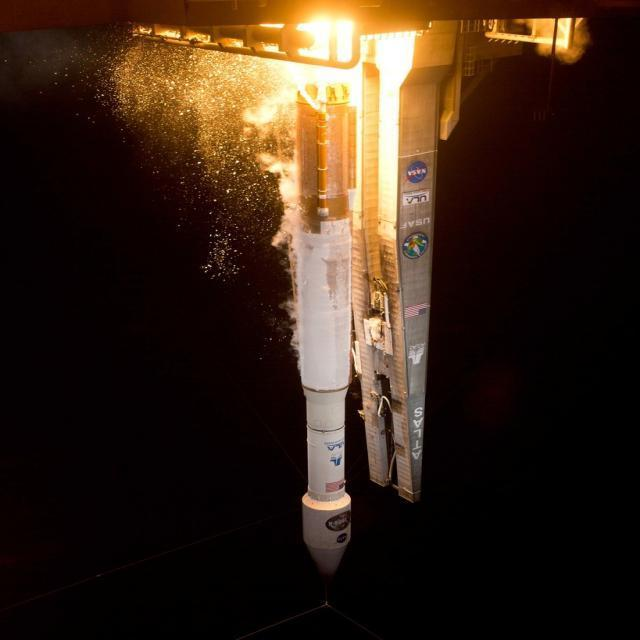missile: (288, 54, 359, 604)
